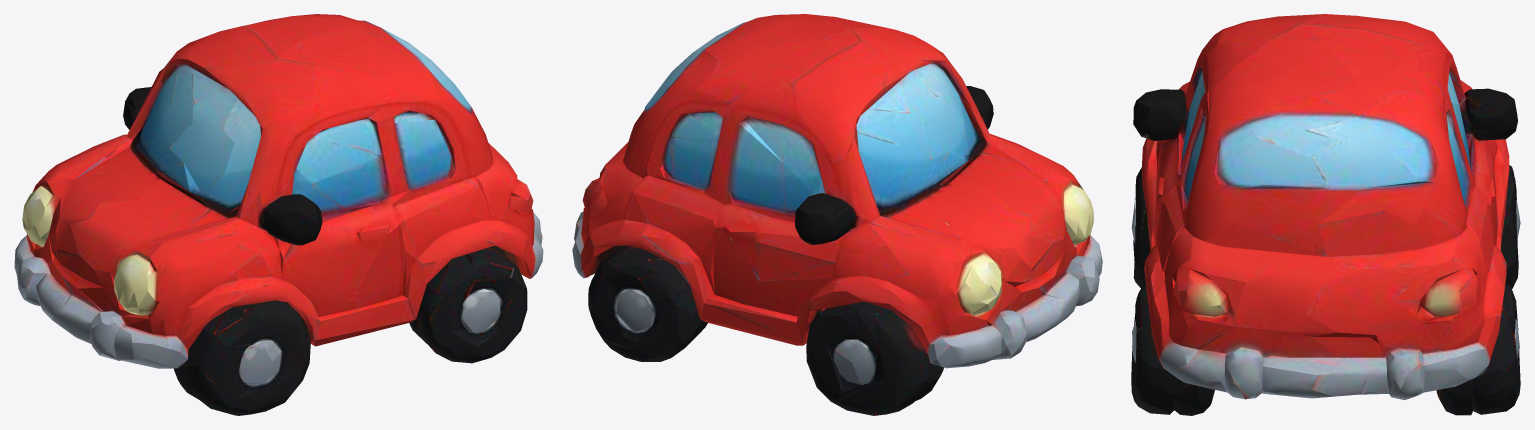
Rendered from by-bil.glb.
3 renders of one model, left to right at view 1: azimuth 30°, elevation 25°; view 2: azimuth 150°, elevation 25°; view 3: azimuth 270°, elevation 25°, orthographic. The views are drawn at different scales.
Size of the model in its own units: 1.9 by 1.16 by 1.3.
Materials: 1 (1 with a texture image).
